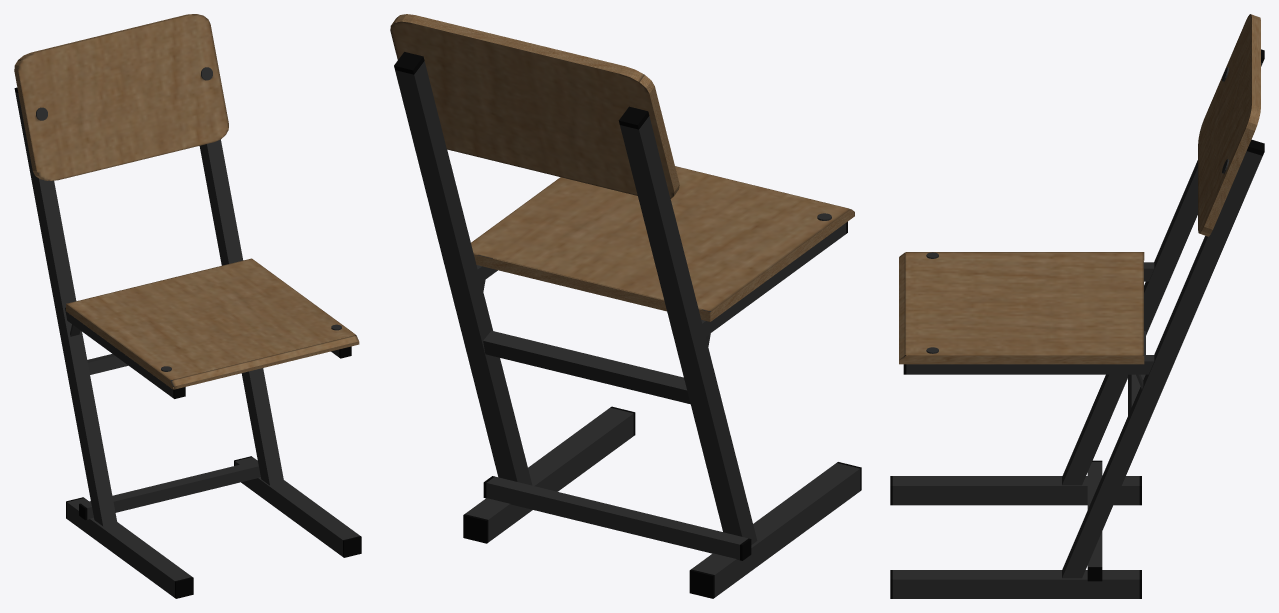
The model's file is Chair.fbx.
3 views of the same model, side by side, from view 1: azimuth 30°, elevation 25°; view 2: azimuth 150°, elevation 25°; view 3: azimuth 270°, elevation 25° (orthographic). The views are drawn at different scales.
Parts seen in each view (by area): view 1: Cube; view 2: Cube; view 3: Cube.
Part boxes in pixels (left/top/right/bottom): Cube: left=14, top=14, right=361, bottom=598; Cube: left=390, top=14, right=861, bottom=598; Cube: left=890, top=14, right=1264, bottom=598.
Bounding box in the file's own units: 47.94 × 100 × 69.89.
3 materials, 1 textured.
